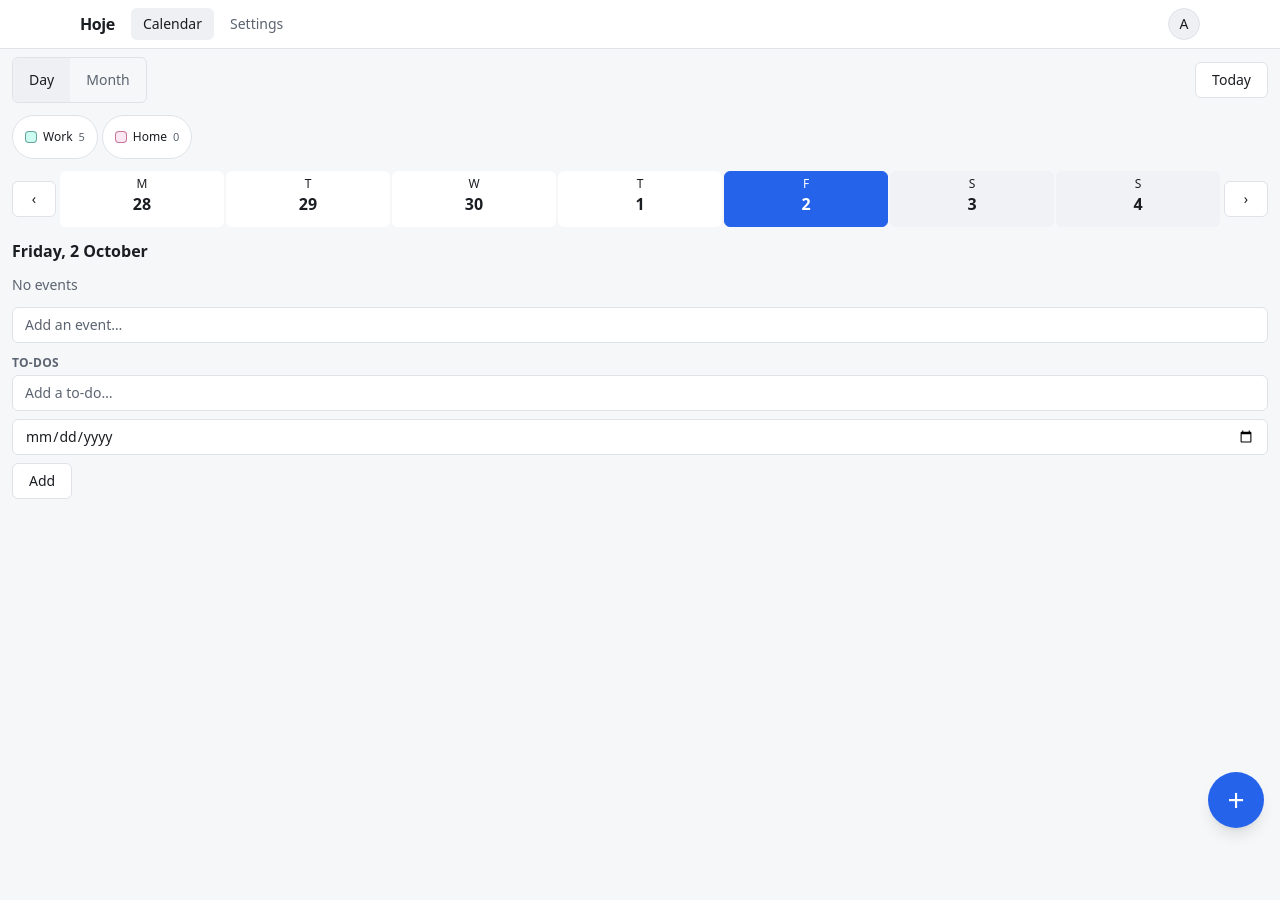
Test: mobile calendar › month view: at most three dots per date; tapping a date lists its events below
Click the button "Month": (108, 80) [70,58,146,102]
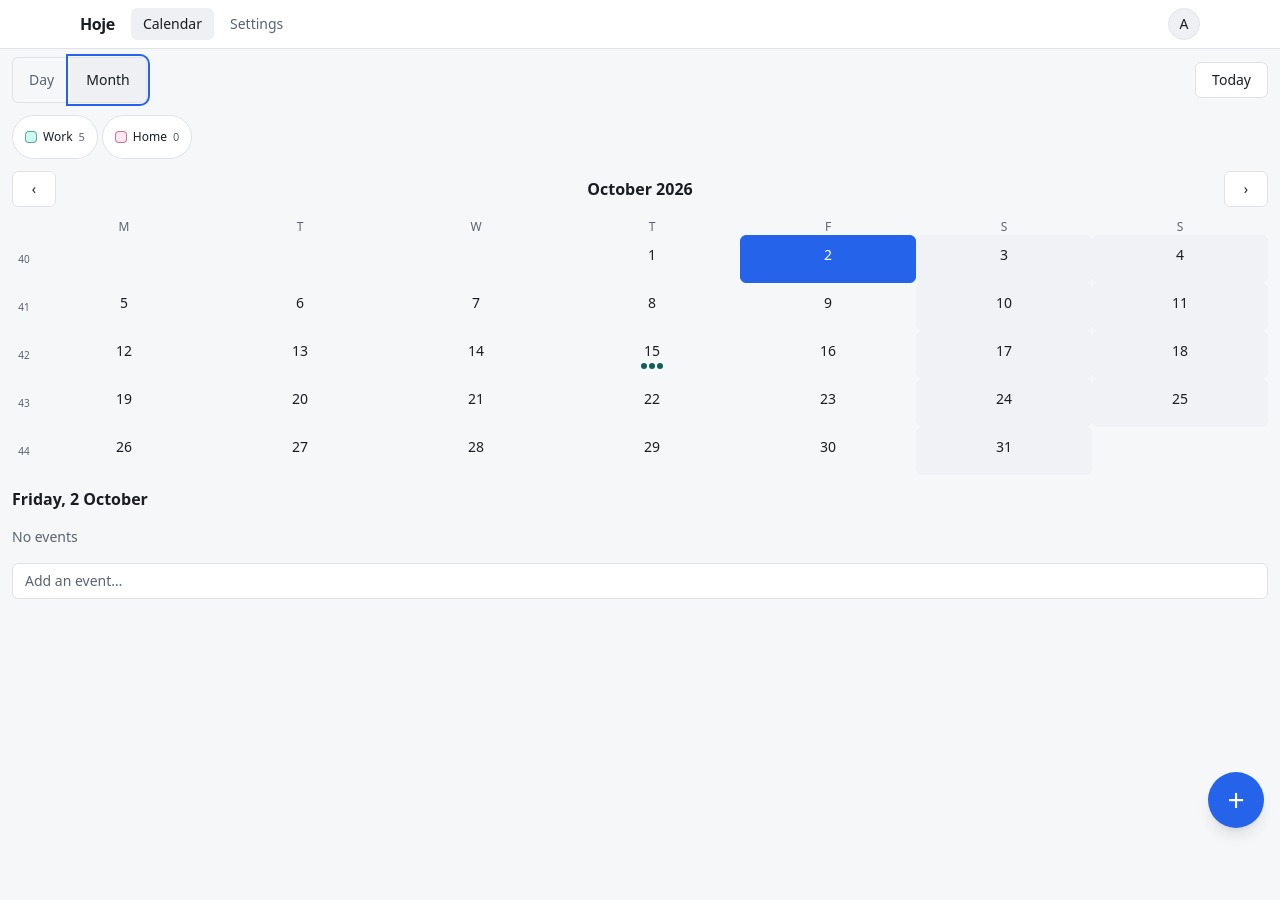
Click the button "15": (652, 355) [564,331,740,379]
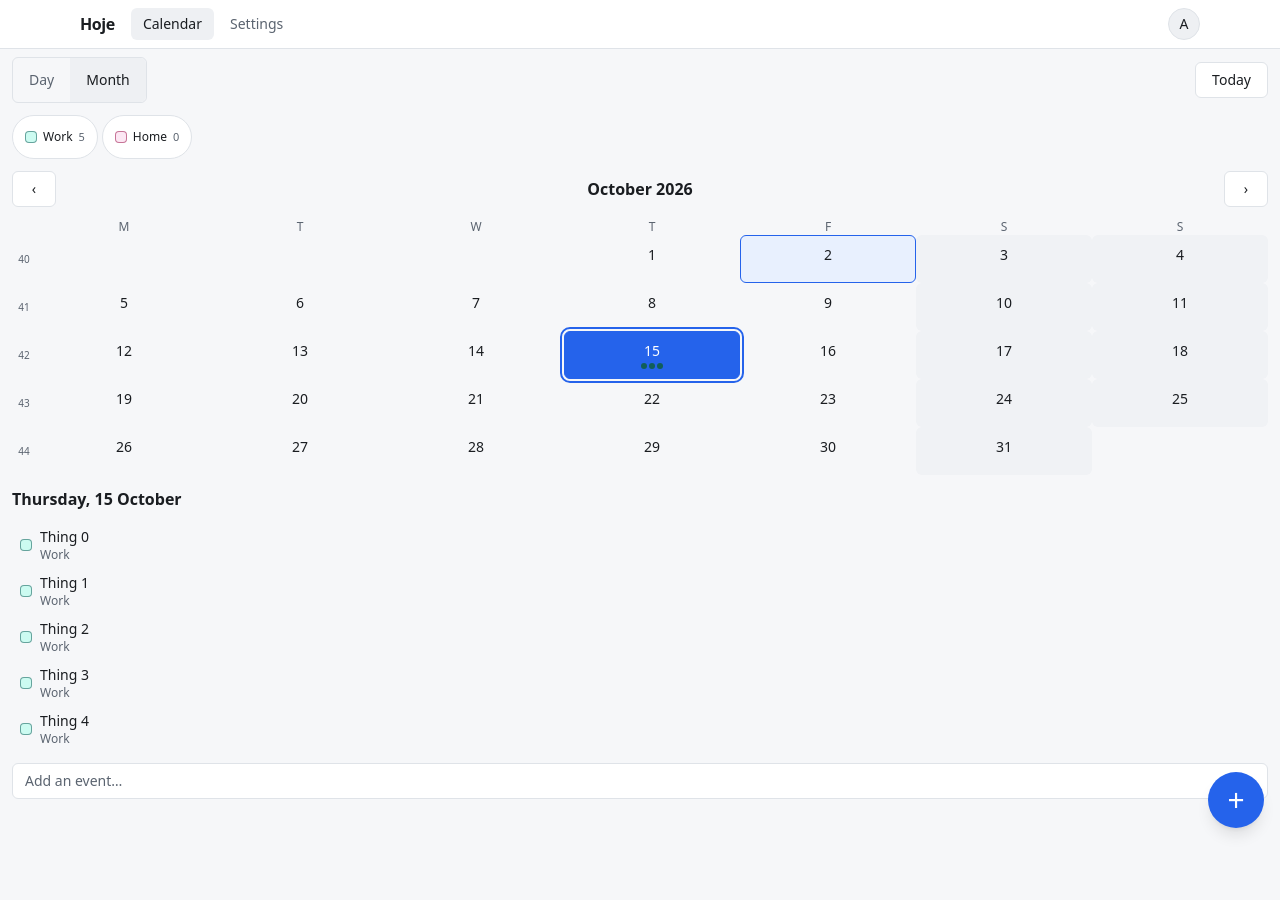
Now the heading "Thursday, 15 October" is shown, box [12,488,182,510]
